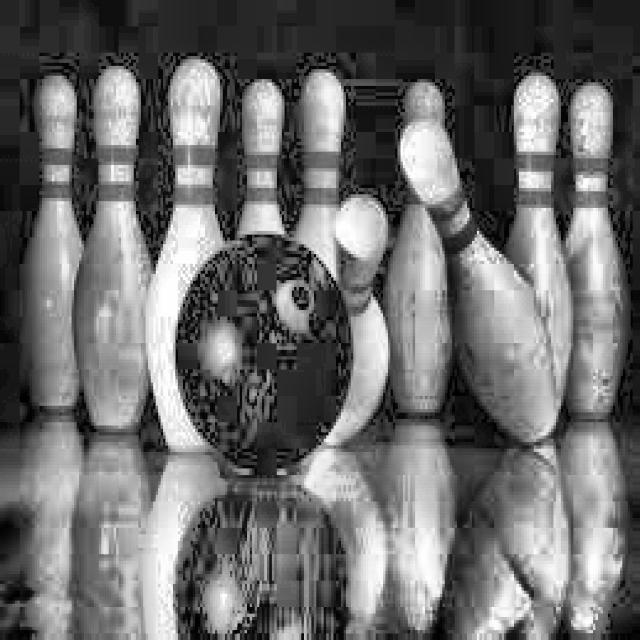bowling-ball: (175, 234, 353, 475)
bowling-pins: (148, 59, 225, 454), (77, 66, 153, 434), (566, 82, 633, 417), (509, 73, 576, 407), (30, 76, 84, 409), (297, 69, 346, 275), (245, 79, 284, 236)
